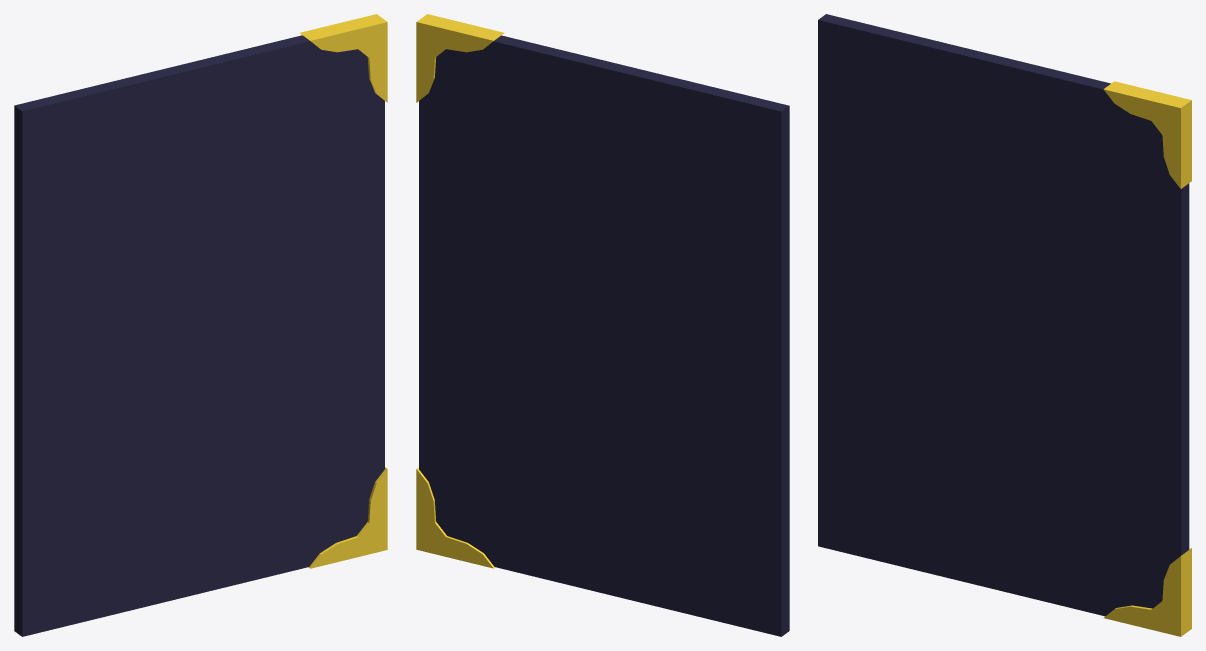
Rendered from cover4.glb.
3 views of the same model, side by side, from view 1: azimuth 30°, elevation 25°; view 2: azimuth 150°, elevation 25°; view 3: azimuth 330°, elevation 25° (orthographic).
Visible parts, largest first — view 1: Cube.001; view 2: Cube.001; view 3: Cube.001.
Part boxes in pixels (box(x1,y1,x2,y2)): Cube.001: box(14, 14, 387, 636); Cube.001: box(416, 14, 789, 636); Cube.001: box(818, 14, 1191, 636).
Bounding box in the file's own units: 1.3 × 1.81 × 0.0682.
